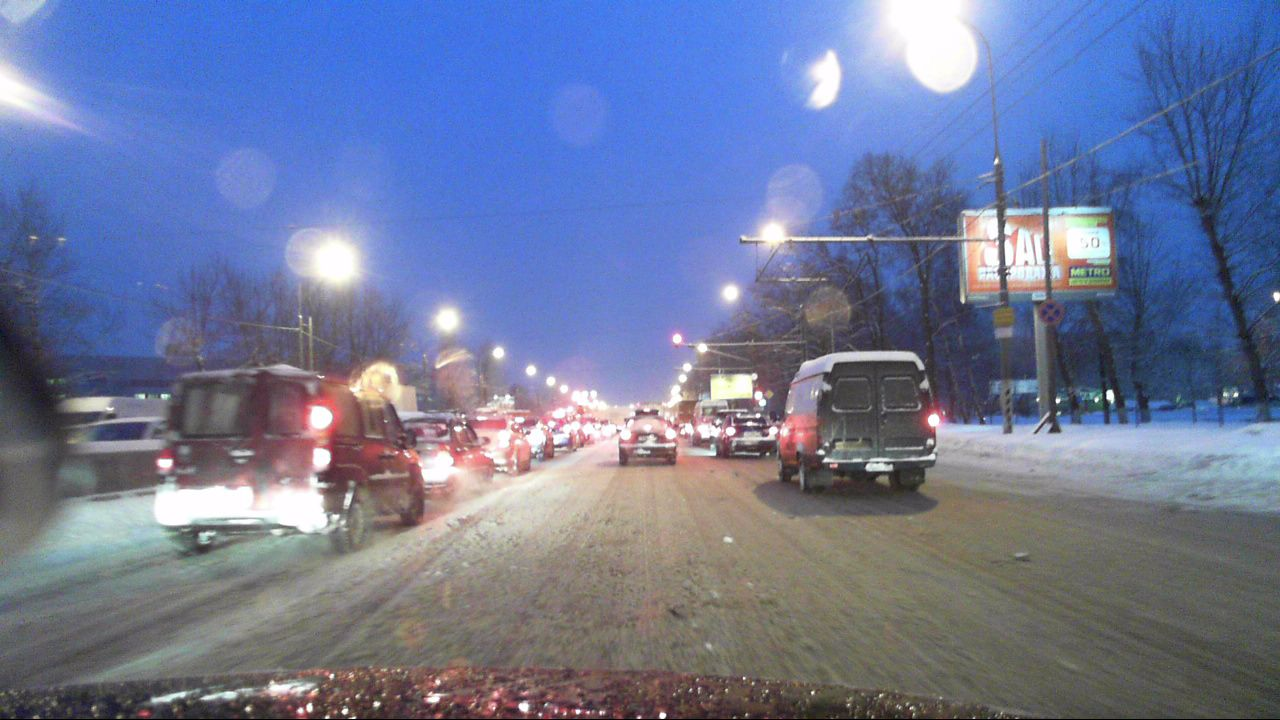No Parking: (1033, 297, 1063, 325)
